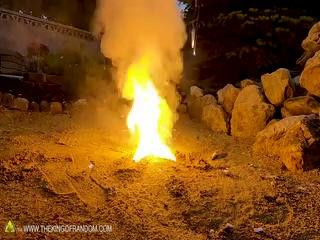Fire: (122, 70, 176, 159)
